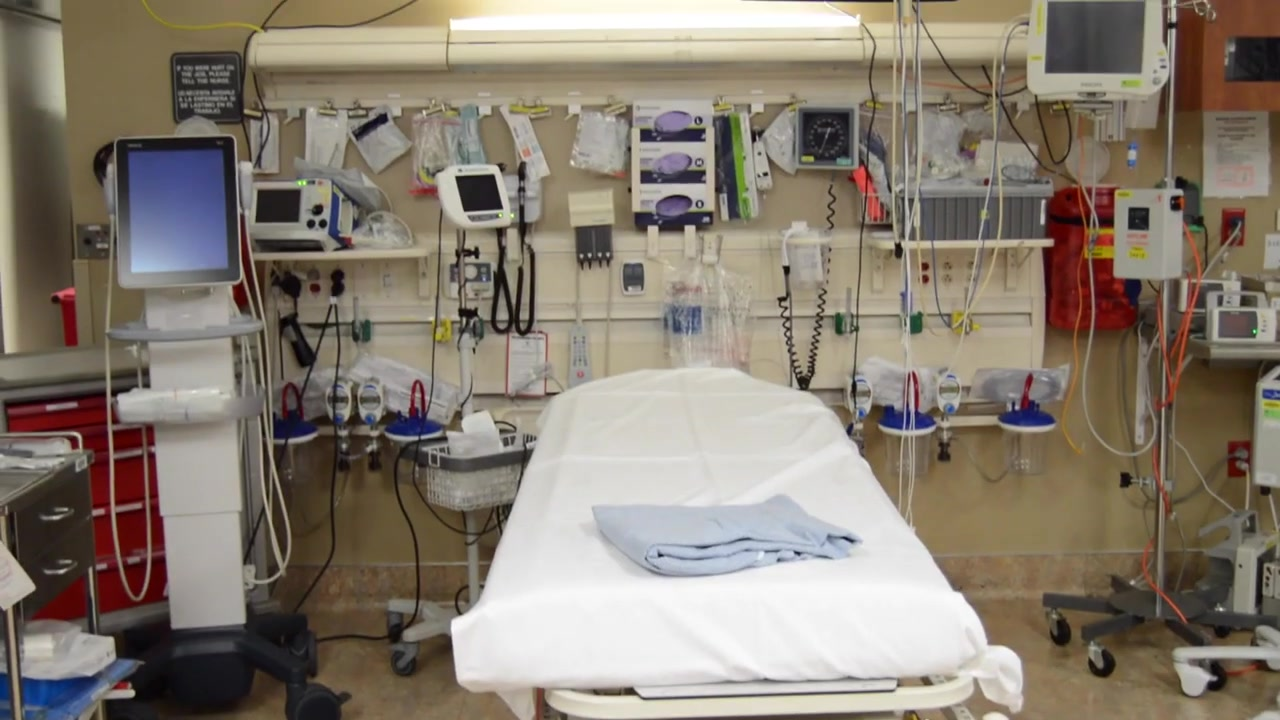bedside_monitor: (107, 141, 238, 286), (1025, 1, 1167, 98)
dispenser: (630, 100, 715, 225)
handle: (42, 558, 77, 575), (38, 507, 74, 522)
hospital_bed: (472, 363, 1005, 720)
iv_pole: (1146, 1, 1189, 686)
medical_drawer: (1, 346, 172, 639)
utility_cart: (1, 428, 138, 720)
